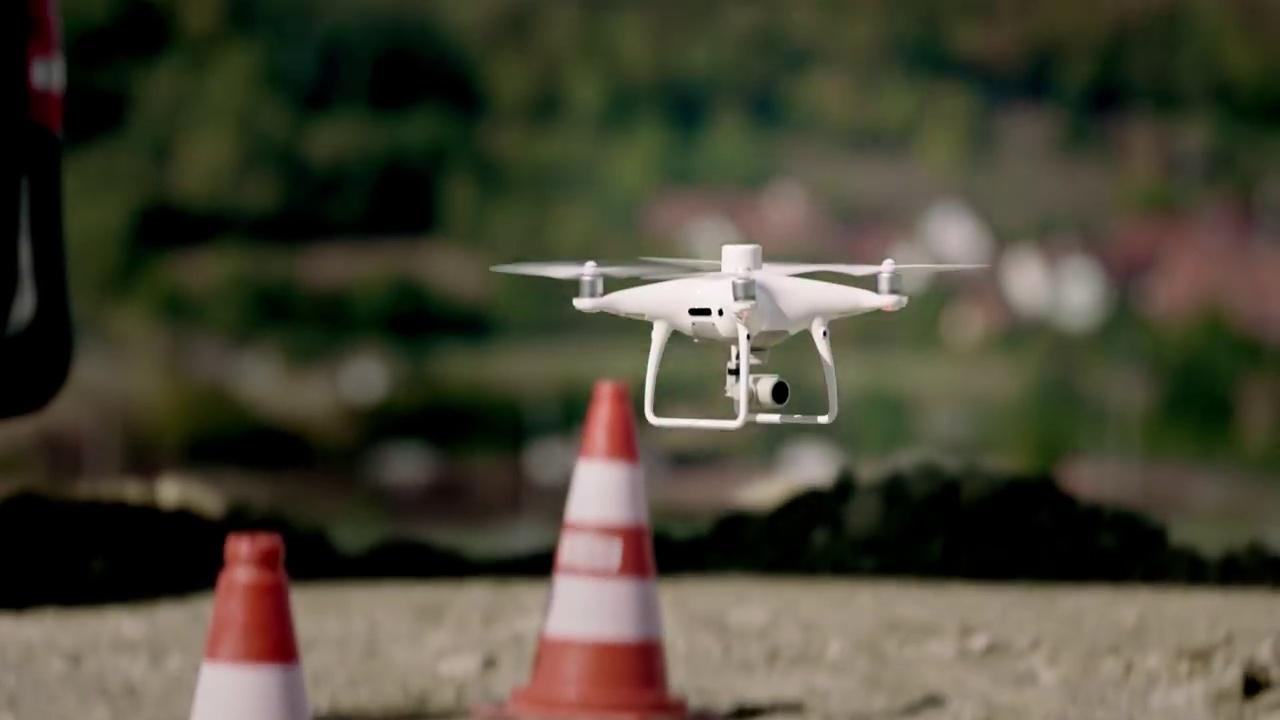drone: (484, 242, 995, 431)
